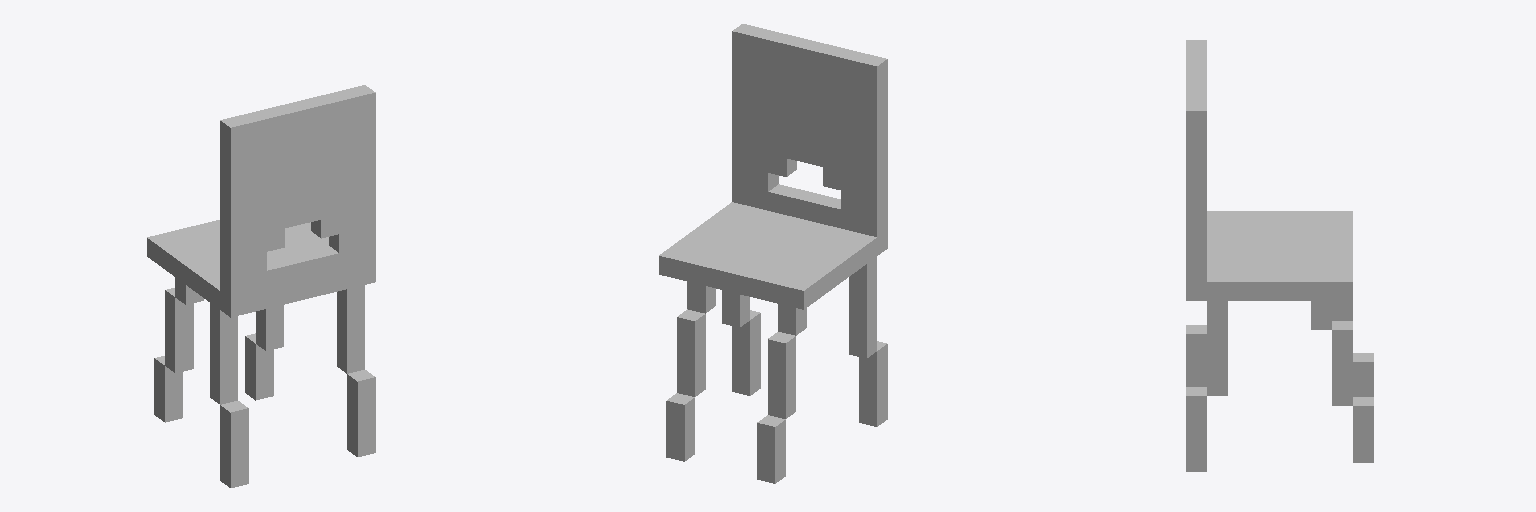
The model's file is silla.obj.
3 renders of one model, left to right at view 1: azimuth 30°, elevation 25°; view 2: azimuth 150°, elevation 25°; view 3: azimuth 270°, elevation 25°, orthographic.
Visible parts, largest first — view 1: object 1; view 2: object 1; view 3: object 1.
Part boxes in pixels (left/top/right/bottom): object 1: left=147, top=85, right=375, bottom=487; object 1: left=659, top=24, right=887, bottom=483; object 1: left=1186, top=40, right=1373, bottom=471.
Bounding box in the file's own units: 0.8 × 1.9 × 0.9.